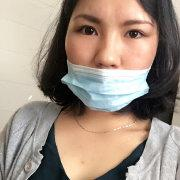WRONG: (62, 16, 157, 111)
